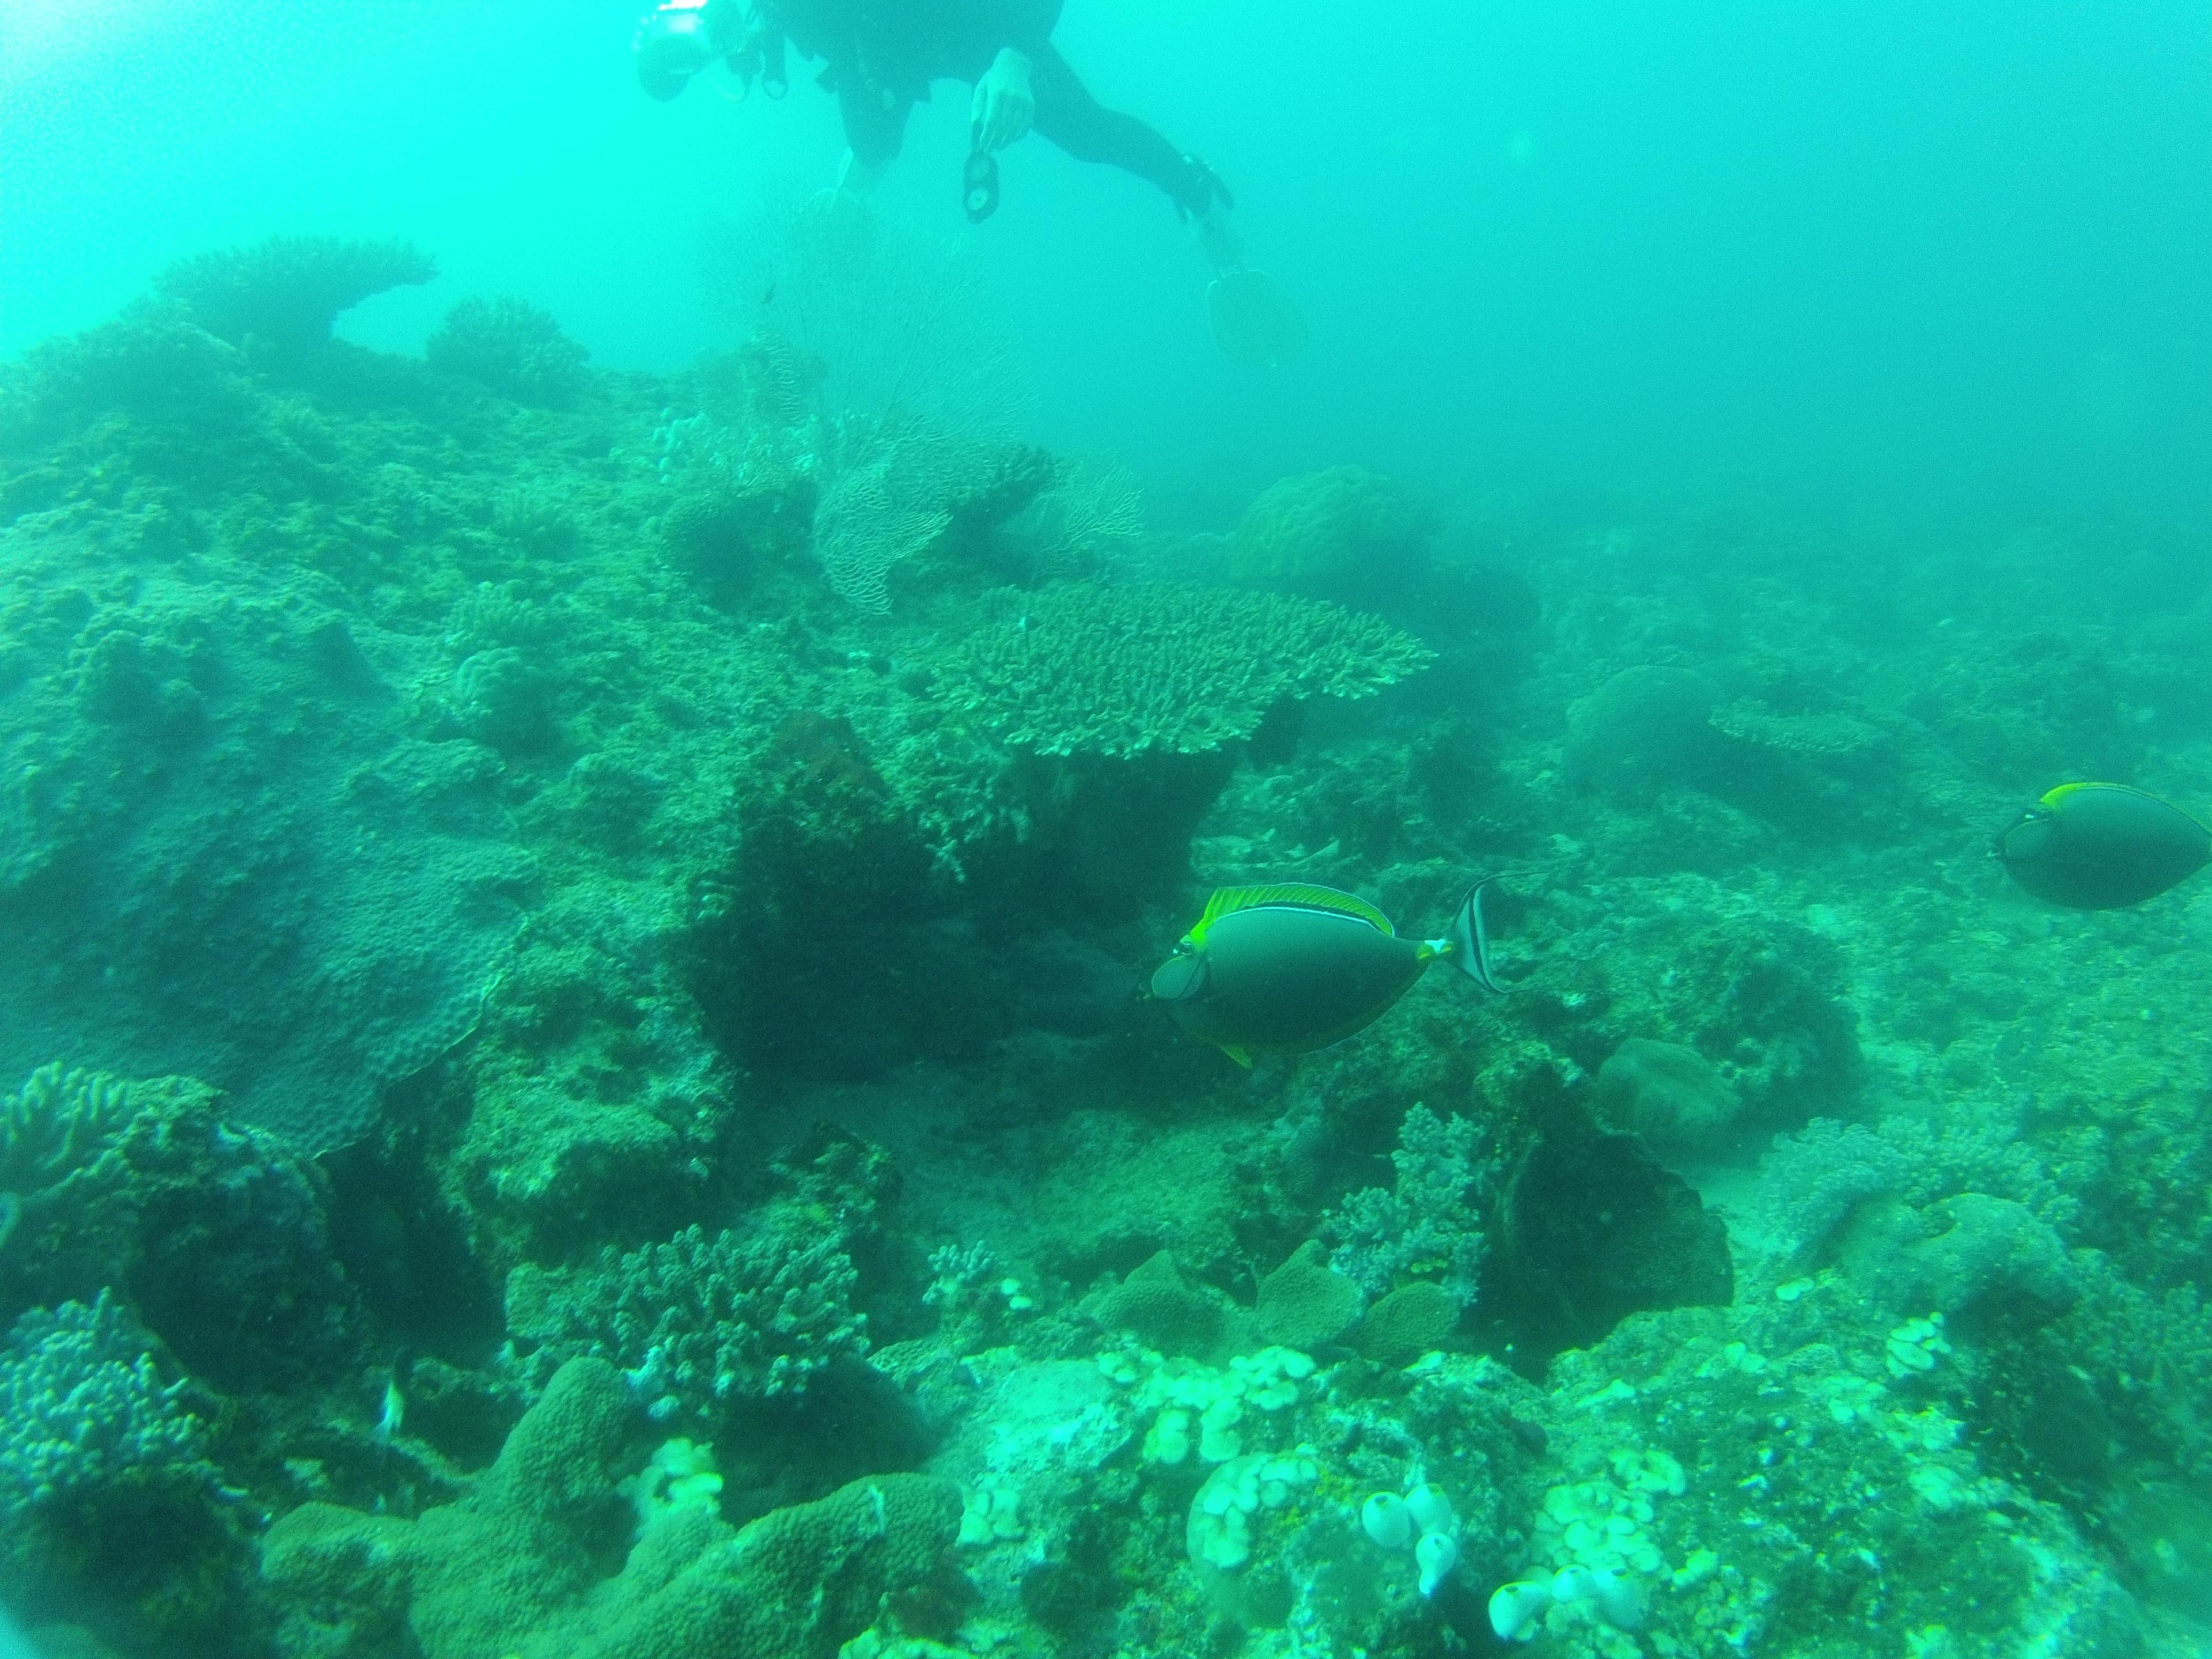Fish: (1052, 824, 1576, 1166), (1909, 725, 2212, 962)
